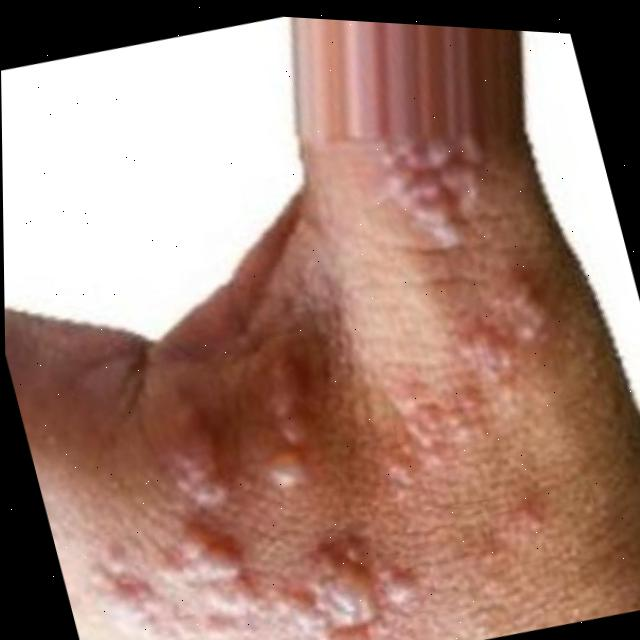Shingles: (331, 248, 591, 509), (73, 465, 431, 640), (363, 115, 509, 264), (232, 345, 341, 503), (144, 373, 246, 521)
